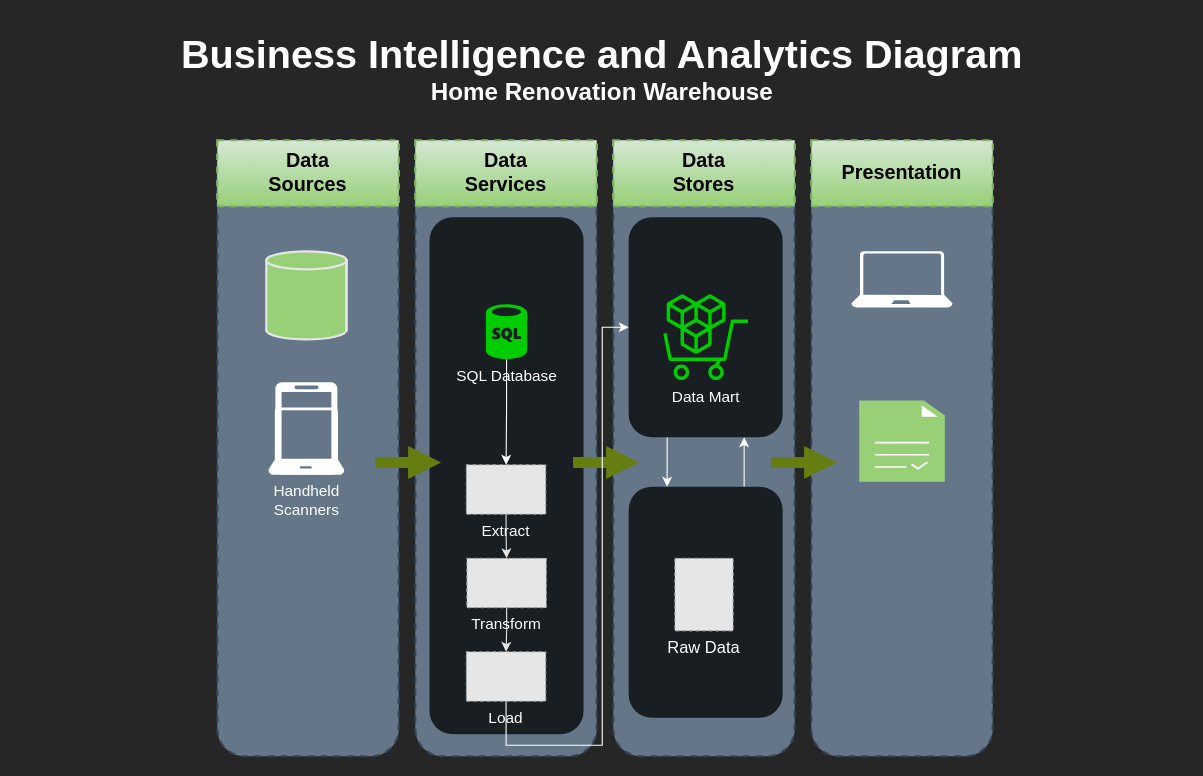
The diagram is 1203 pixels wide and 776 high, and some of its shapes have lost their labels. Grey dashed boxes stand in for pictures. Here are the shapes that lost their labels. From the top down, the box of each, then its label:
(265, 250, 347, 340): ERP
(851, 251, 952, 307): Online Inventory Dashboard
(628, 217, 782, 437): Data Warehouse
(859, 400, 944, 481): Inventory Reports
(429, 217, 583, 734): Data Management System
(628, 486, 782, 717): Data Lake
